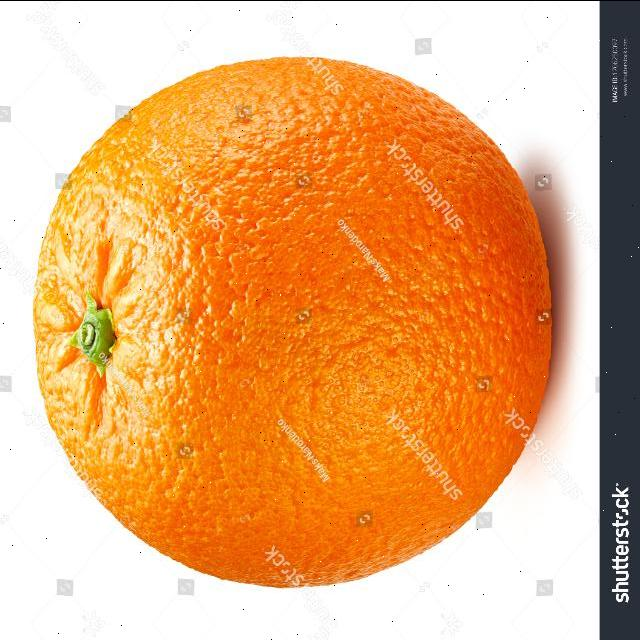Orange: (31, 54, 554, 589)
